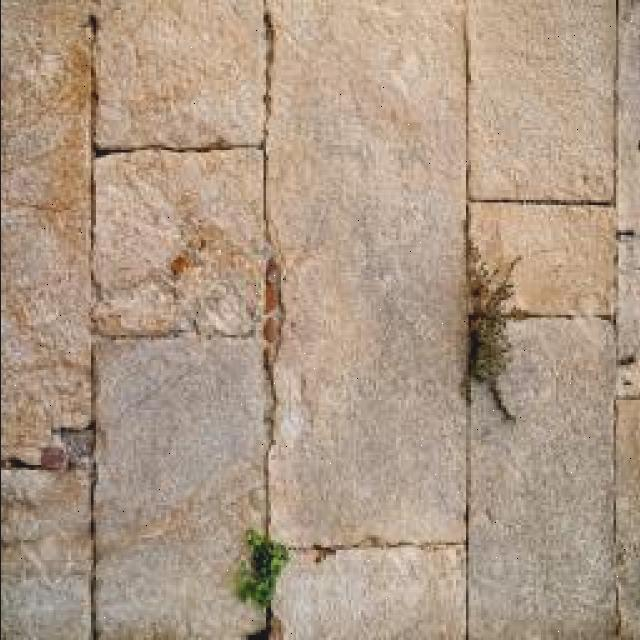crack: (288, 0, 457, 116), (1, 461, 98, 640), (83, 3, 104, 480), (2, 134, 94, 229), (92, 280, 191, 339), (3, 461, 91, 519), (3, 429, 99, 476), (461, 0, 480, 232), (256, 0, 278, 167), (474, 152, 545, 203), (98, 140, 259, 159), (85, 7, 106, 152), (610, 0, 623, 231), (264, 356, 285, 480), (472, 196, 611, 213), (97, 98, 132, 133), (94, 311, 131, 337), (91, 142, 121, 163), (86, 12, 100, 47), (616, 229, 635, 238)
dampens: (1, 455, 42, 472), (261, 8, 275, 48)
dampness: (169, 240, 208, 280)
vegetation: (166, 214, 267, 342), (461, 239, 523, 423), (104, 485, 222, 553), (234, 527, 289, 634), (271, 348, 309, 470), (188, 222, 226, 258)
